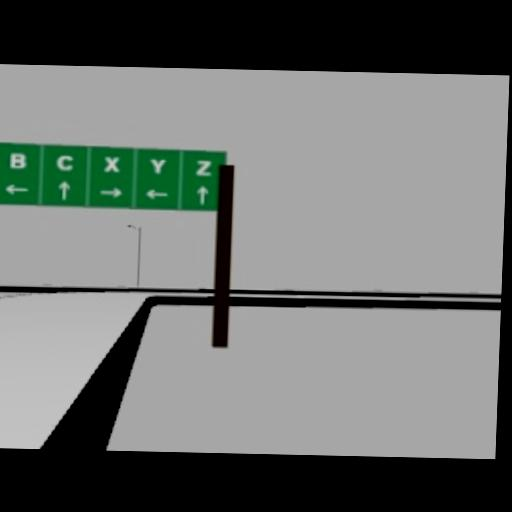B: (8, 151, 26, 168)
C: (54, 152, 74, 171)
Left: (3, 183, 29, 194), (144, 188, 168, 199)
Right: (97, 185, 123, 196)
Straight: (57, 179, 69, 200), (196, 184, 208, 204)
X: (102, 155, 118, 172)
Y: (149, 158, 165, 173)
Z: (195, 159, 211, 176)
